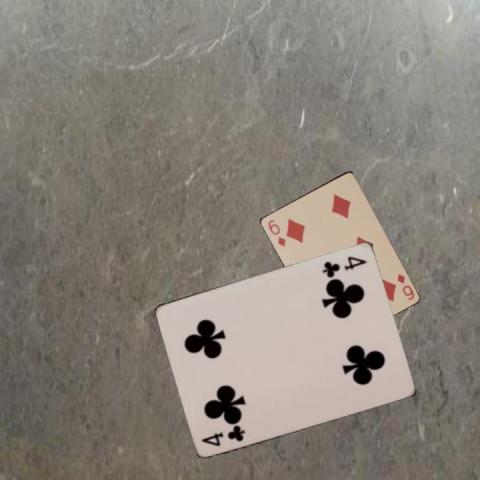4c: (319, 253, 368, 278), (198, 422, 246, 447)
6d: (264, 217, 286, 248), (394, 271, 415, 301)
